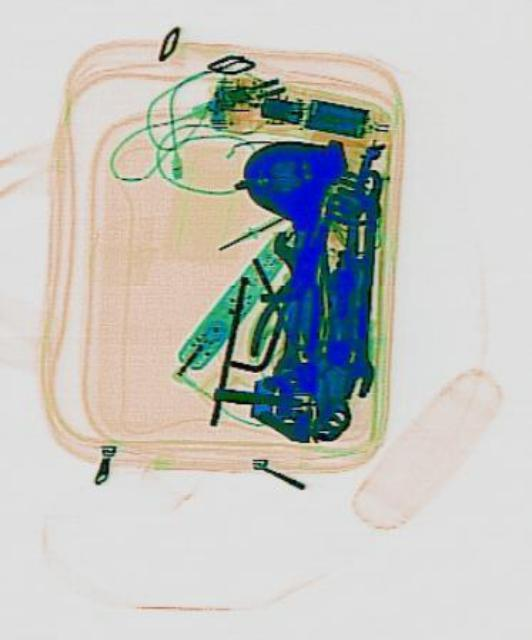Wrench: (339, 166, 381, 397), (267, 230, 306, 384)
